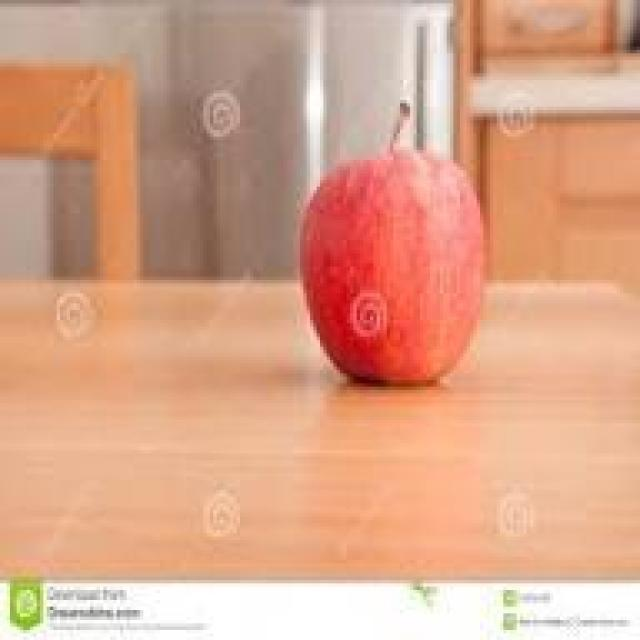apple: (300, 137, 487, 390)
